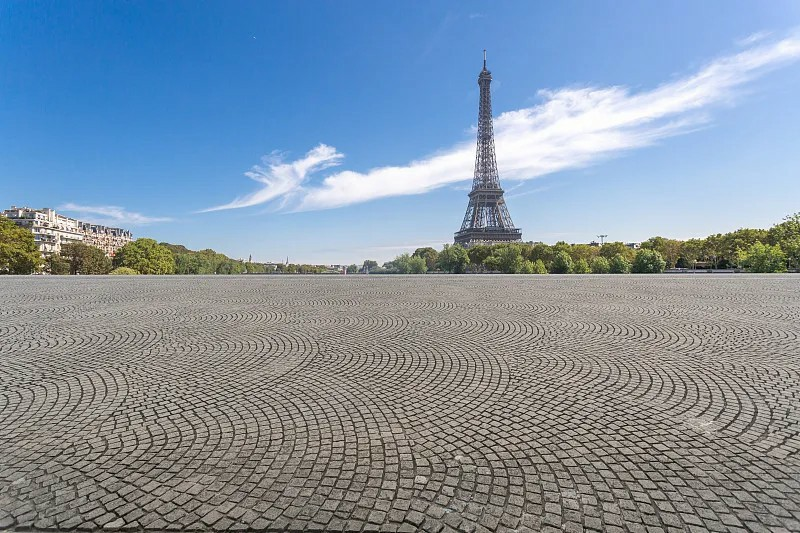Eiffel: (451, 50, 526, 247)
